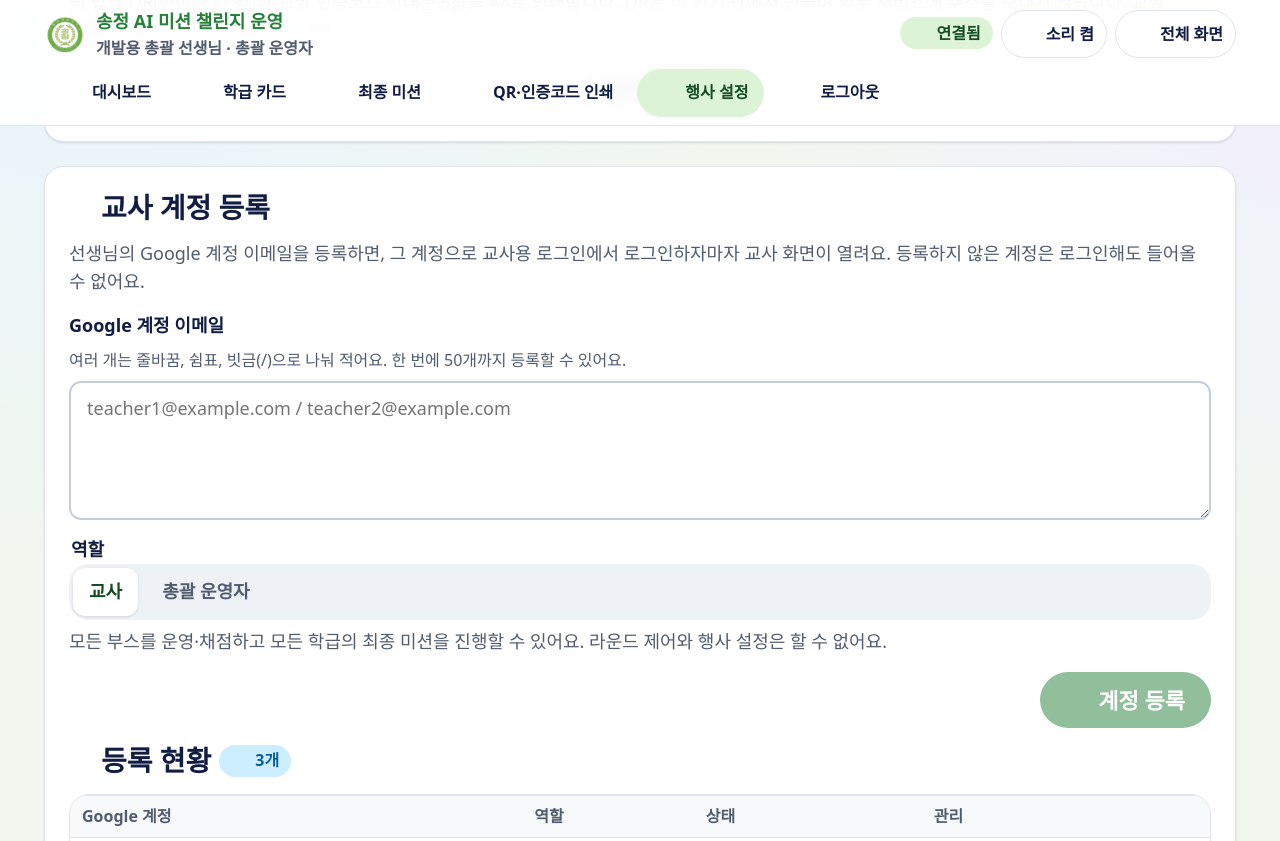
Test case: 교사 계정 등록 › 이메일이 아닌 글이 있으면 알려 주고 등록하지 않는다
(page scrolled)
Type "ok@example.com, 홍길동" into the text box labelled "Google 계정 이메일" at (640, 451), box [69,381,1211,520]
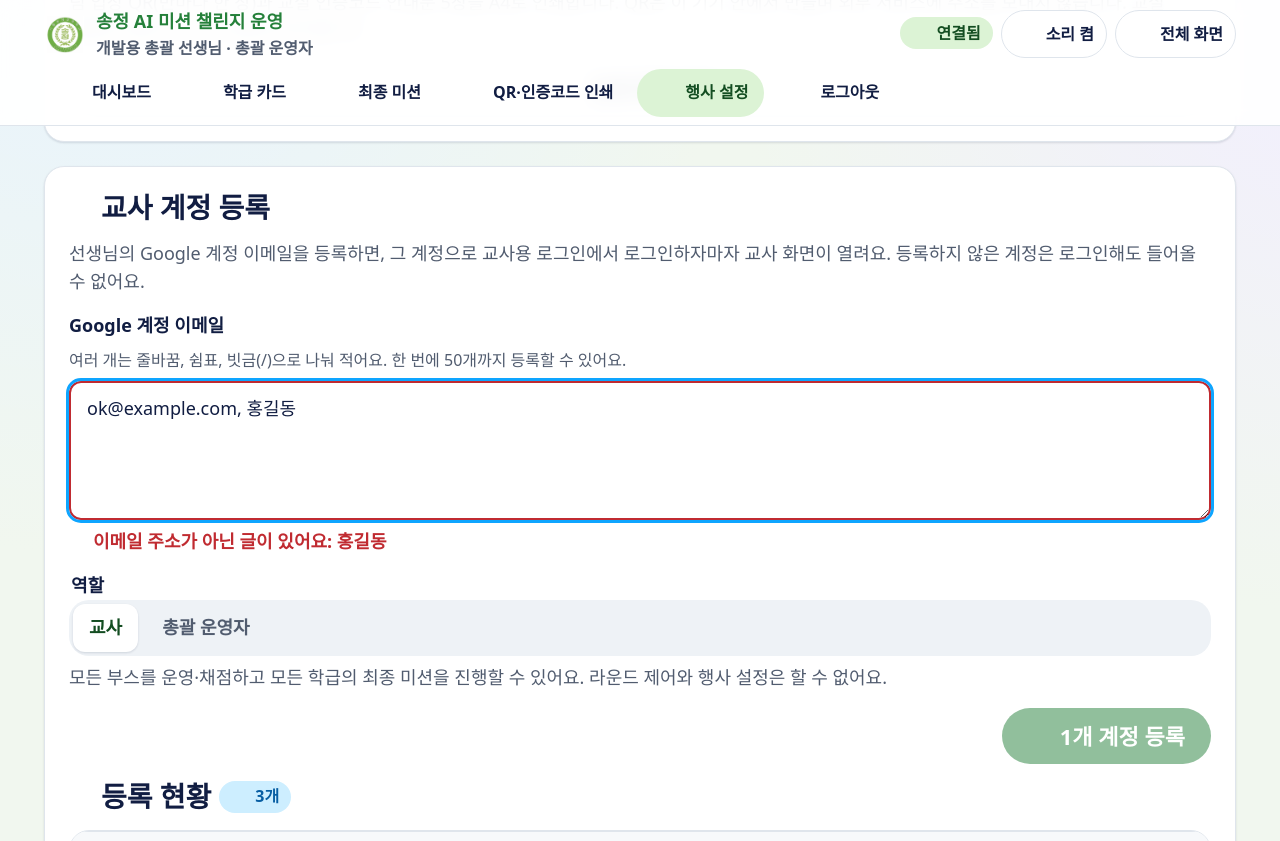
Expected: the button "1개 계정 등록" is disabled, [1002,708,1211,764]
Now the text "이메일 주소가 아닌 글이 있어요: 홍길동" is shown, box [69,529,386,553]
